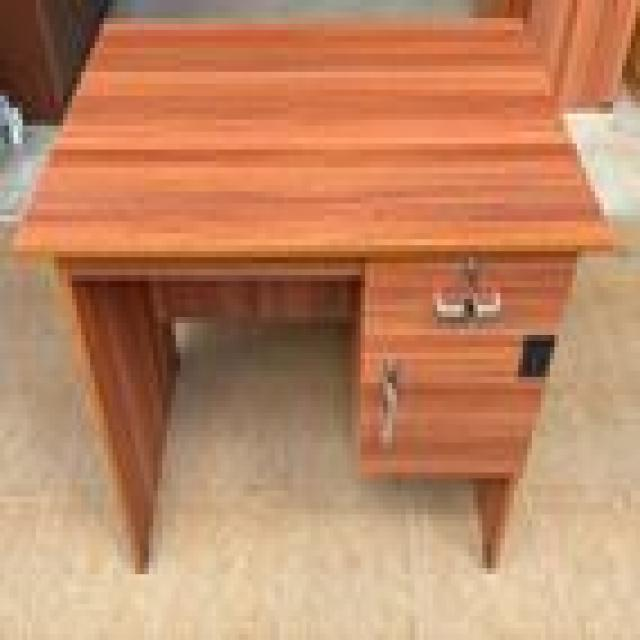others: (4, 6, 640, 586)
